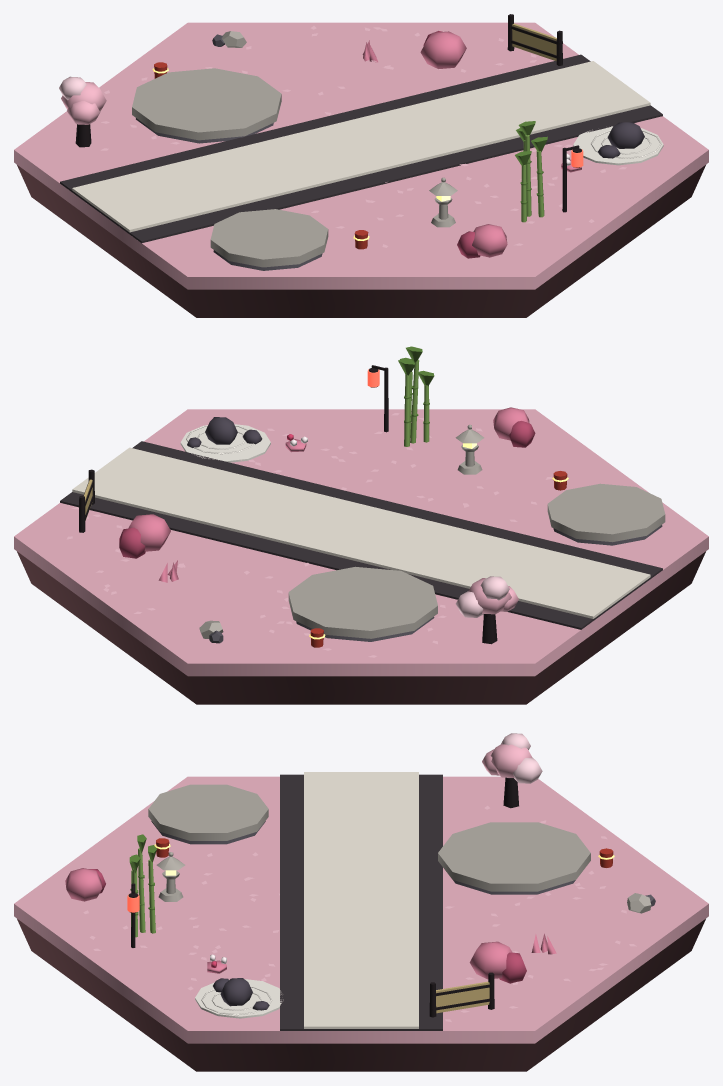
The model's file is tile_mineRoad.glb.
The picture shows the model from 3 angles, top to bottom: view 1: azimuth 30°, elevation 25°; view 2: azimuth 150°, elevation 25°; view 3: azimuth 270°, elevation 25°; orthographic projection.
Visible parts, largest first — view 1: ground, road, ground_soil, tower_slot_1_plate, tower_slot_2_plate, deco_karesansui_gravel, deco_bamboo, deco_tree_3, deco_karesansui, deco_bush_5_a, deco_petals, deco_bush_0_a (+1 smaller); view 2: ground, road, ground_soil, tower_slot_1_plate, tower_slot_2_plate, road_surface_hub, deco_bamboo, deco_tree_3, deco_karesansui_gravel, deco_karesansui, road_verge_hub, deco_petals (+3 smaller); view 3: ground, road, ground_soil, tower_slot_1_plate, tower_slot_2_plate, road_surface_hub, deco_tree_3, deco_karesansui_gravel, deco_bamboo, deco_karesansui, deco_bush_5_a, deco_petals (+4 smaller).
Boxes of the visible parts, box(x1,y1,x2,y2) form: ground: box(14, 22, 708, 289); road: box(60, 54, 662, 243); ground_soil: box(17, 165, 705, 317); tower_slot_1_plate: box(132, 68, 281, 140); tower_slot_2_plate: box(210, 209, 328, 267); deco_karesansui_gravel: box(573, 126, 663, 165); deco_bamboo: box(515, 121, 547, 222); deco_tree_3: box(59, 76, 106, 124); deco_karesansui: box(591, 122, 661, 158); deco_bush_5_a: box(420, 31, 466, 69); deco_petals: box(100, 26, 626, 247); deco_bush_0_a: box(472, 224, 507, 257); ground: box(14, 409, 708, 676); road: box(60, 441, 662, 629); ground_soil: box(17, 551, 705, 704); tower_slot_1_plate: box(288, 566, 437, 638); tower_slot_2_plate: box(547, 483, 665, 542); road_surface_hub: box(304, 508, 417, 555); deco_bamboo: box(398, 346, 434, 446); deco_tree_3: box(455, 576, 518, 617); deco_karesansui_gravel: box(180, 424, 270, 462); deco_karesansui: box(186, 417, 262, 454); road_verge_hub: box(283, 501, 434, 568); deco_petals: box(66, 413, 551, 657); ground: box(14, 776, 708, 1043); road: box(280, 772, 442, 1030); ground_soil: box(17, 919, 705, 1071); tower_slot_1_plate: box(438, 822, 590, 891); tower_slot_2_plate: box(148, 784, 268, 840); road_surface_hub: box(304, 875, 418, 923); deco_tree_3: box(482, 733, 542, 783); deco_karesansui_gravel: box(195, 979, 283, 1018); deco_bamboo: box(129, 834, 156, 937); deco_karesansui: box(201, 978, 272, 1015); deco_bush_5_a: box(469, 941, 512, 979); deco_petals: box(83, 805, 636, 1021).
Bounding box in the file's own units: 1.73 × 0.445 × 2.
